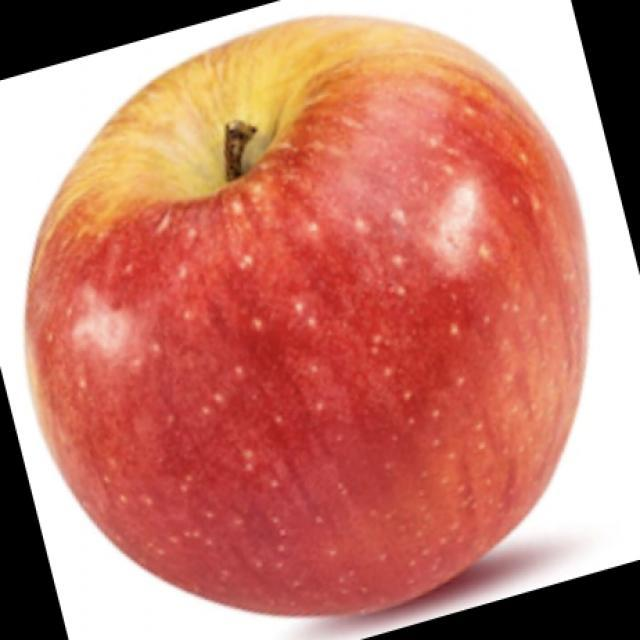Fresh Apple: (29, 33, 568, 597)
